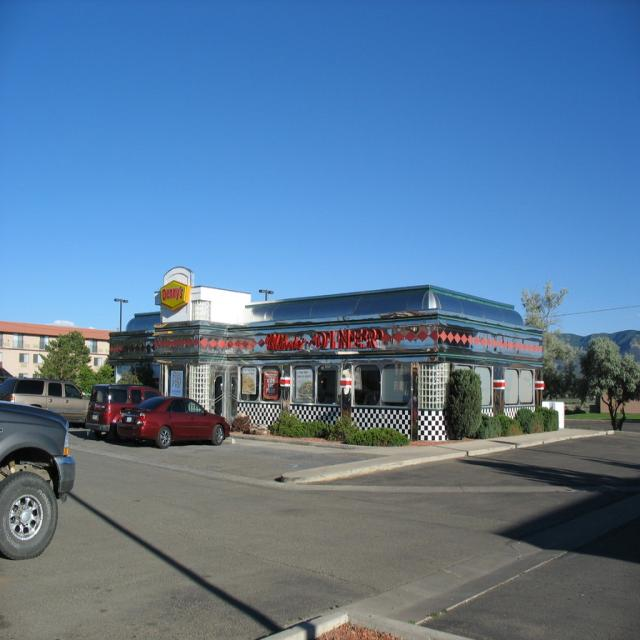car: (116, 394, 229, 444)
